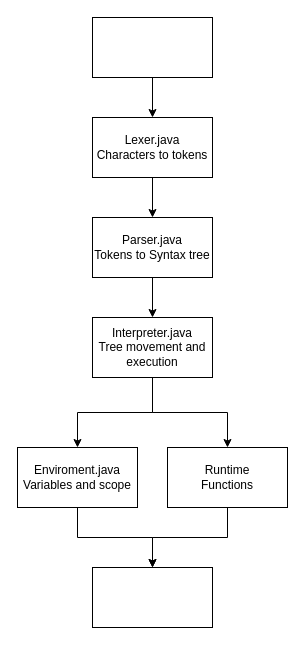
Image size: 305x645. Some labels were removed from this diagram. The box of each missing label's shape, as (x1, y1, x2, y2) in pixels:
Output Terminal and errors: (92, 566, 212, 628)
Source Program With My Language: (92, 16, 212, 78)
